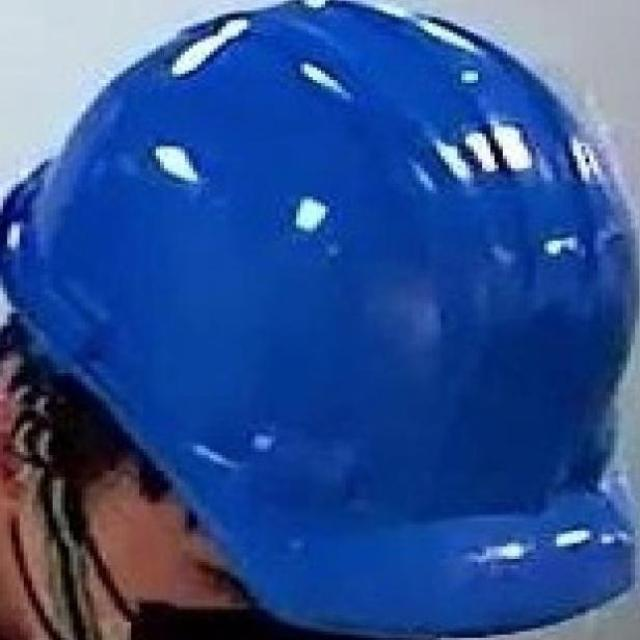blue helmet: (10, 9, 639, 585)
